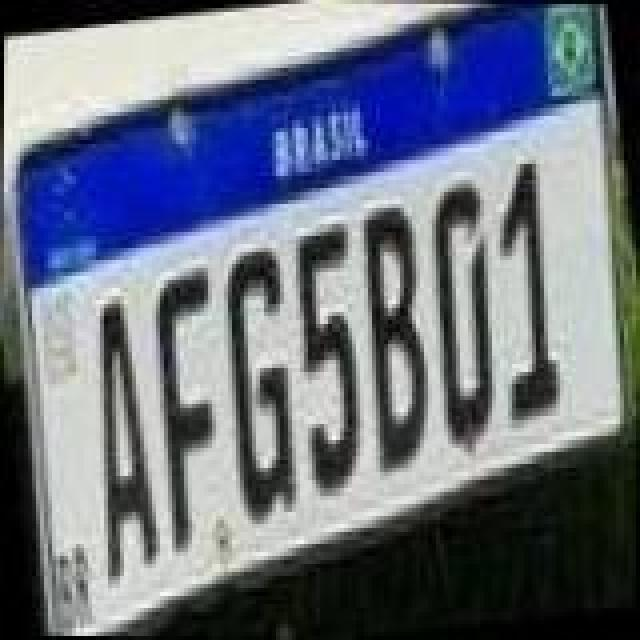1: (474, 154, 574, 430)
5: (274, 216, 390, 504)
A: (66, 290, 170, 582)
B: (342, 198, 450, 478)
D: (410, 170, 518, 450)
F: (132, 258, 248, 554)
G: (206, 240, 318, 528)
